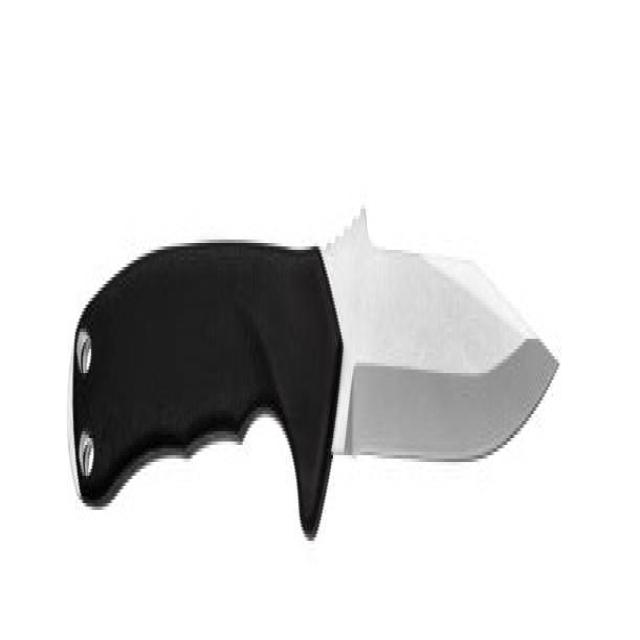knife: (63, 193, 565, 543)
